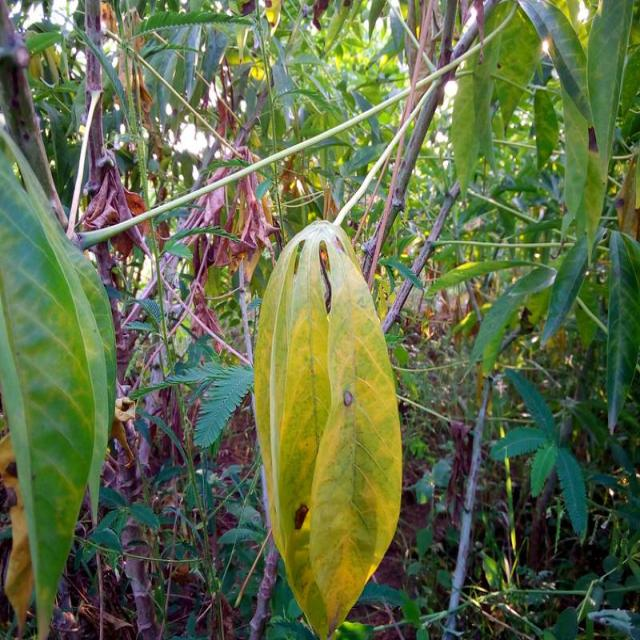cassava leaf: (253, 217, 404, 638), (1, 126, 118, 638)
